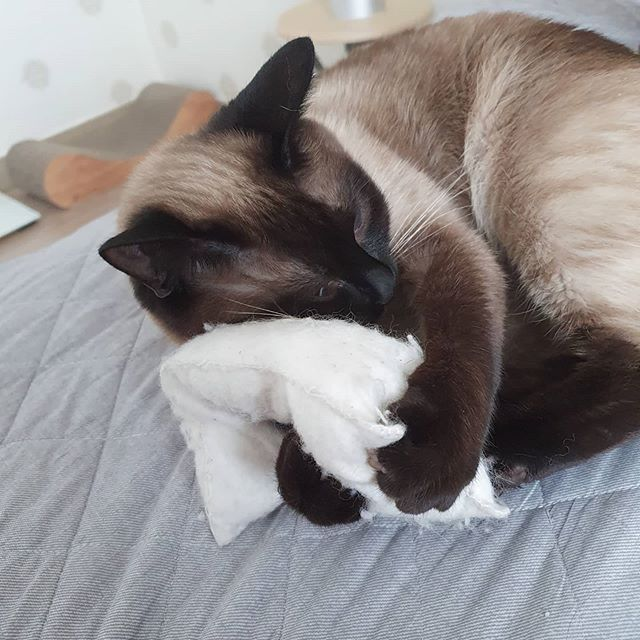cat: (92, 38, 405, 350)
